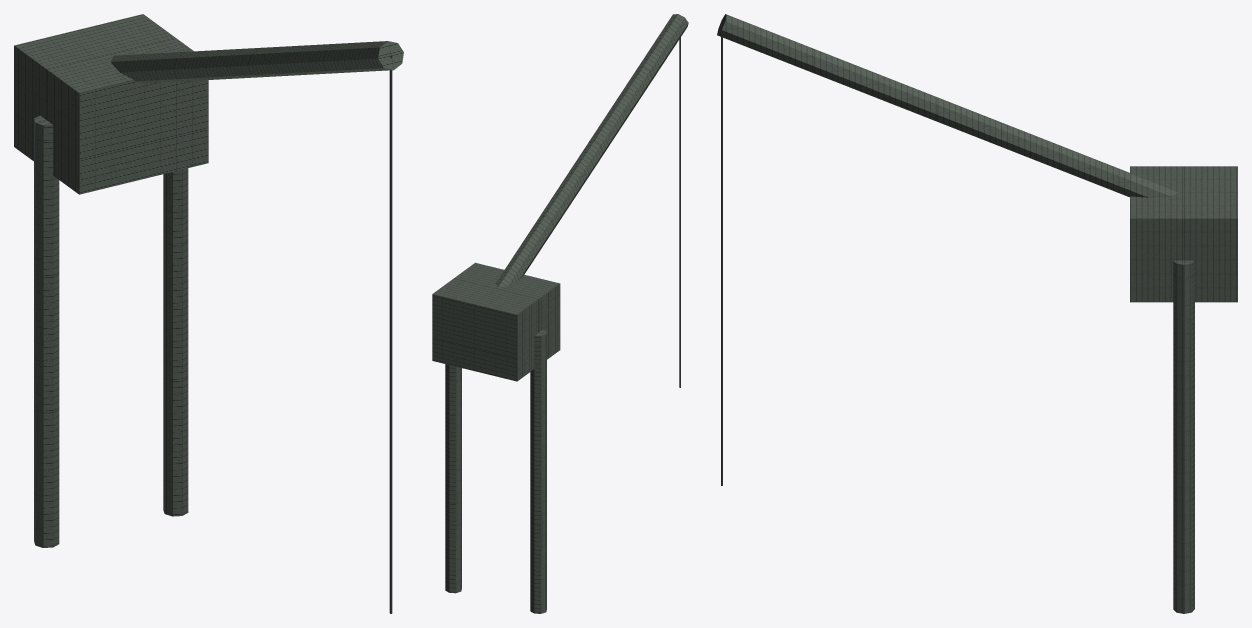
Rendered from damaged1.gltf.
The picture shows the model from 3 angles, left to right: view 1: azimuth 30°, elevation 25°; view 2: azimuth 150°, elevation 25°; view 3: azimuth 270°, elevation 25°; orthographic projection. The views are drawn at different scales.
Parts seen in each view (by area): view 1: britaincrane_damaged1; view 2: britaincrane_damaged1; view 3: britaincrane_damaged1.
Boxes of the visible parts, box(x1,y1,x2,y2) form: britaincrane_damaged1: box(14, 14, 403, 613); britaincrane_damaged1: box(432, 14, 688, 613); britaincrane_damaged1: box(717, 14, 1237, 613).
Size of the model in its own units: 9.4 by 40.73 by 33.82.
Materials: 3 (2 with a texture image).
